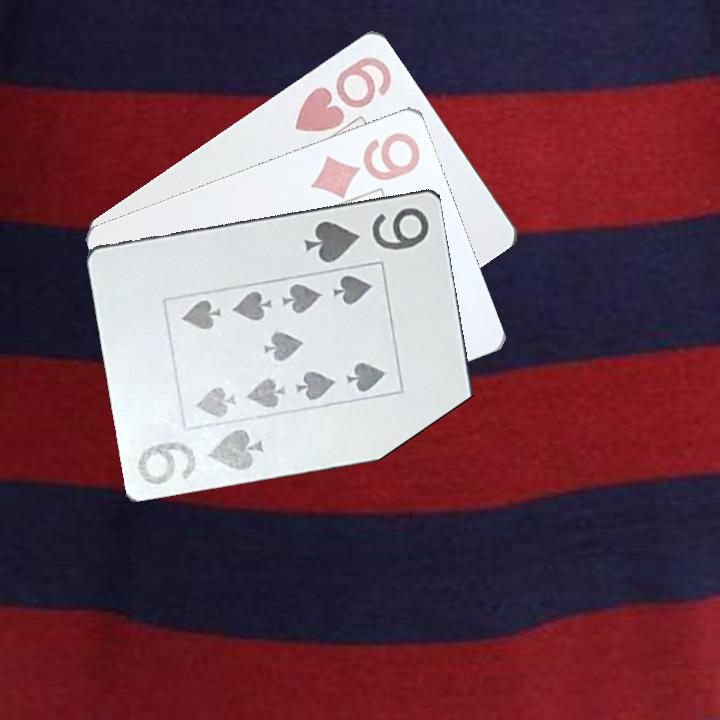6h: (291, 51, 395, 136)
9d: (307, 128, 424, 200)
9s: (134, 423, 267, 488), (301, 203, 433, 266)
